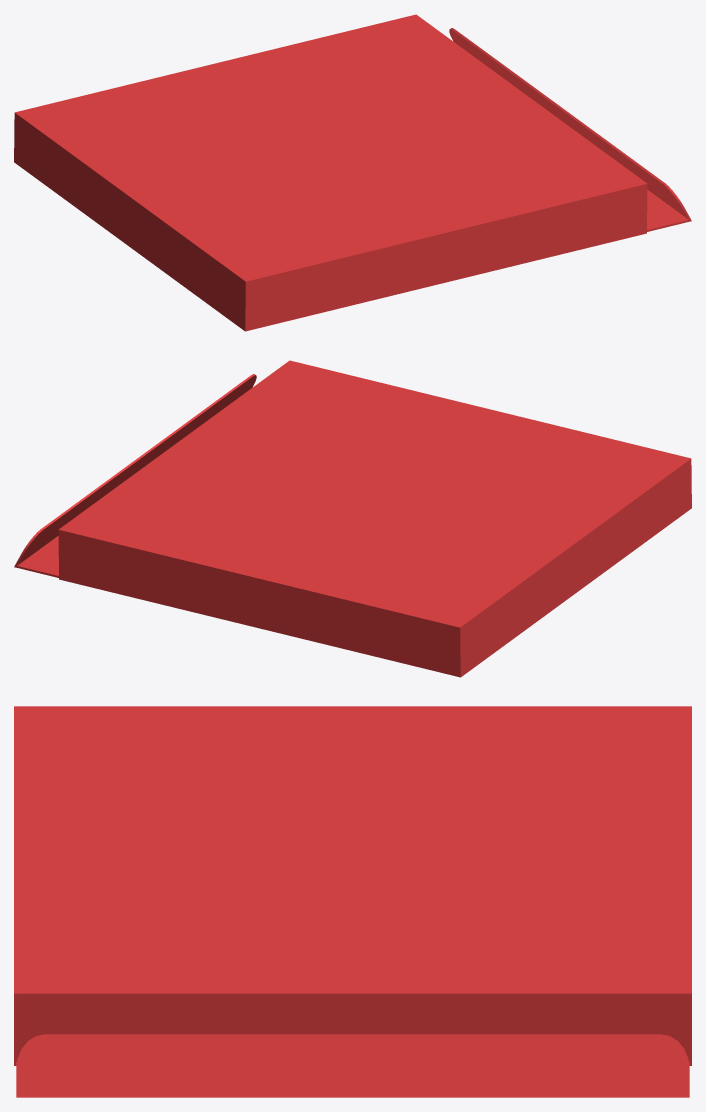
Rendered from plaster box.fbx.
3 views of the same model, one above another, from view 1: azimuth 30°, elevation 25°; view 2: azimuth 150°, elevation 25°; view 3: azimuth 270°, elevation 25° (orthographic). The views are drawn at different scales.
Parts seen in each view (by area): view 1: kotak perban.001, tutup kotak.005; view 2: kotak perban.001, tutup kotak.005; view 3: kotak perban.001, tutup kotak.005.
Boxes of the visible parts, x1,y1,x2,y2 form: kotak perban.001: [14, 14, 647, 331]; tutup kotak.005: [449, 28, 691, 231]; kotak perban.001: [58, 360, 691, 677]; tutup kotak.005: [14, 374, 256, 577]; kotak perban.001: [14, 706, 691, 1065]; tutup kotak.005: [16, 1034, 689, 1097].
Size of the model in its own units: 0.0873 by 0.00926 by 0.0781.
